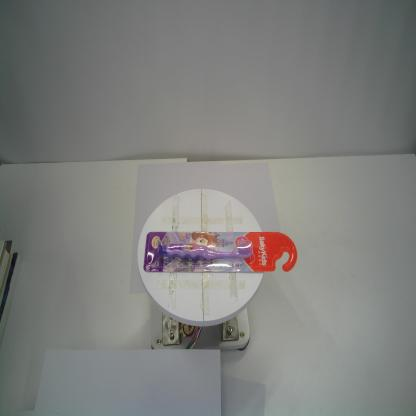Personal Hygiene: (143, 230, 298, 274)
